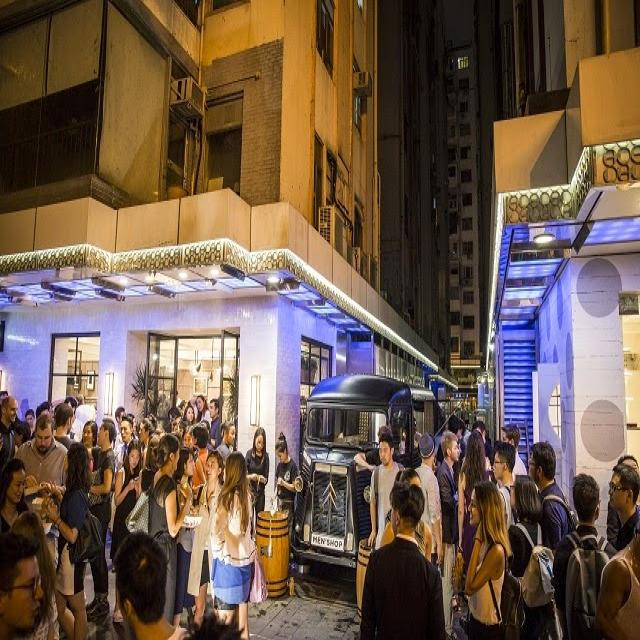body: (0, 393, 211, 481), (358, 478, 451, 639), (123, 430, 192, 625), (39, 441, 106, 638), (549, 470, 620, 640), (208, 452, 260, 640), (111, 526, 191, 640), (13, 411, 69, 571), (464, 479, 515, 640), (506, 474, 556, 638), (181, 448, 225, 633), (7, 509, 61, 638), (397, 402, 499, 469), (107, 438, 143, 625), (433, 428, 463, 638), (526, 439, 579, 556), (591, 518, 640, 640), (456, 429, 494, 574), (171, 445, 199, 631), (378, 468, 432, 564), (0, 530, 46, 640), (367, 433, 406, 550), (413, 433, 444, 567), (269, 429, 300, 538), (605, 453, 639, 547), (243, 424, 271, 535), (607, 462, 640, 554), (0, 456, 30, 535), (491, 442, 517, 532), (353, 424, 400, 472), (75, 418, 102, 499), (499, 421, 530, 483), (189, 424, 211, 510), (177, 613, 244, 640), (111, 415, 136, 486), (0, 394, 21, 462), (137, 412, 160, 472), (53, 402, 79, 451), (79, 418, 100, 472), (215, 418, 237, 462), (207, 397, 223, 451)
